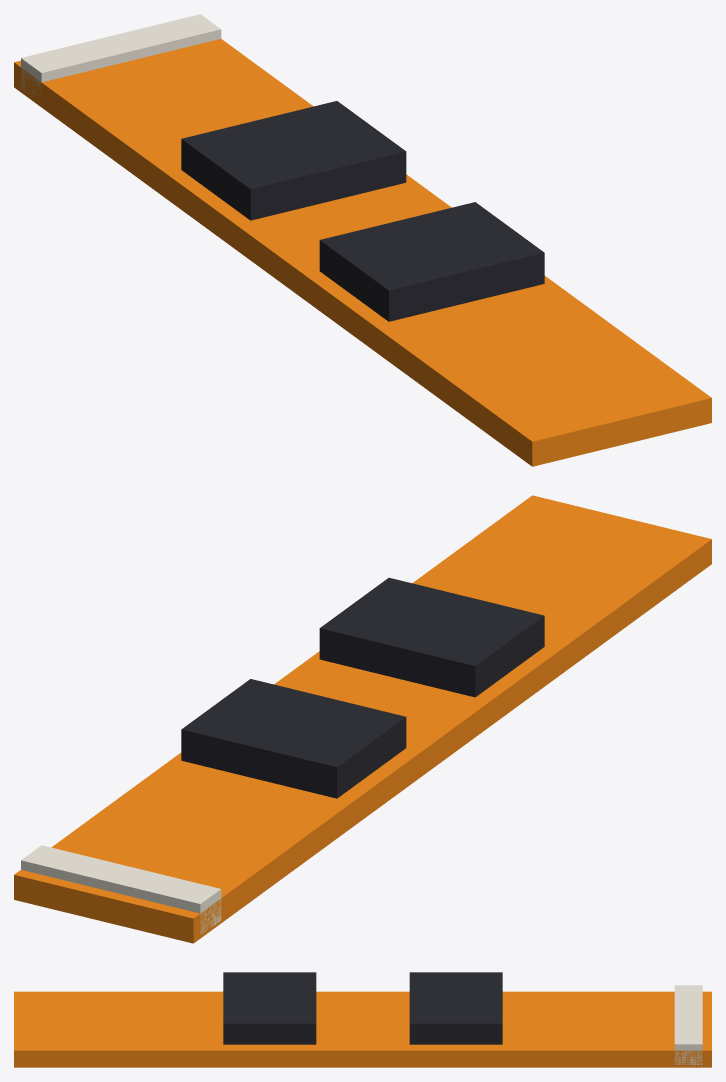
Rendered from snowboard.glb.
3 renders of one model, top to bottom at view 1: azimuth 30°, elevation 25°; view 2: azimuth 150°, elevation 25°; view 3: azimuth 270°, elevation 25°, orthographic. The views are drawn at different scales.
Parts seen in each view (by area): view 1: snowboard; view 2: snowboard; view 3: snowboard.
Boxes of the visible parts, x1,y1,x2,y2 form: snowboard: (14, 14, 711, 466); snowboard: (14, 495, 711, 943); snowboard: (14, 972, 711, 1067).
Size of the model in its own units: 0.3 by 0.095 by 1.5.
